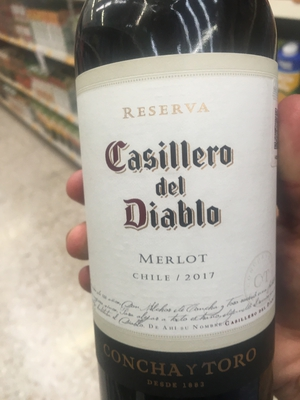casillero del diablo merlot: (73, 5, 282, 395)
